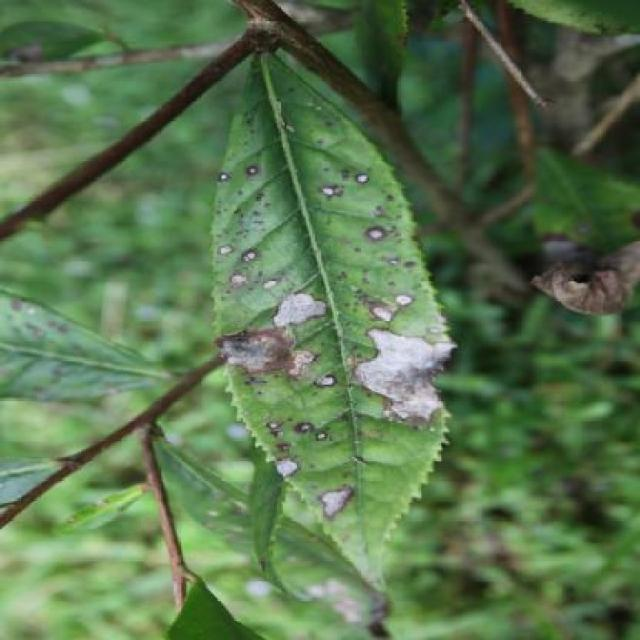Black rot of tea: (191, 31, 449, 586)
